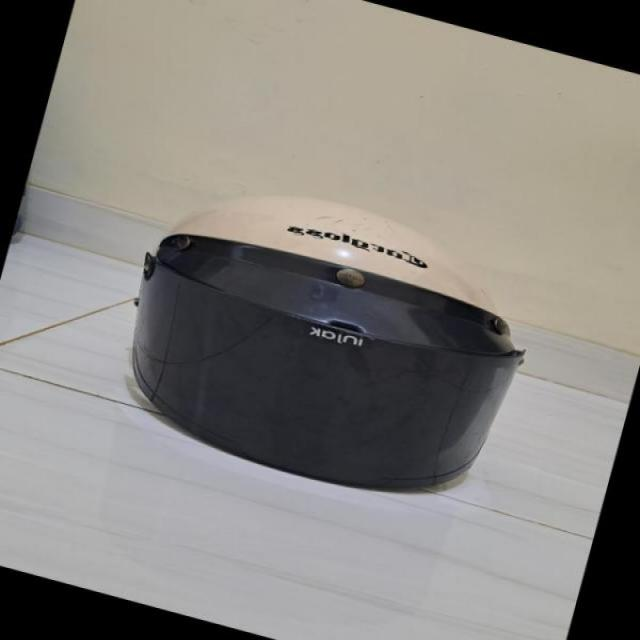Helmet: (127, 192, 529, 509)
